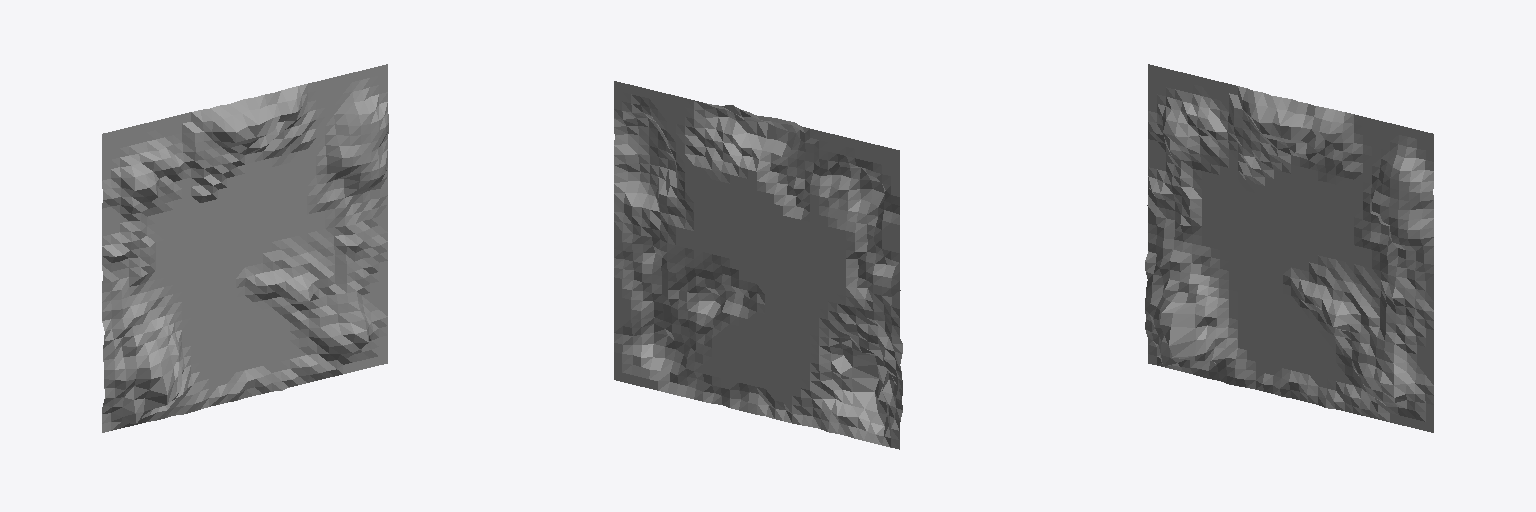
Rendered from terrain.OBJ.
3 views of the same model, side by side, from view 1: azimuth 30°, elevation 25°; view 2: azimuth 150°, elevation 25°; view 3: azimuth 330°, elevation 25° (orthographic).
Visible parts, largest first — view 1: terrain_Plane; view 2: terrain_Plane; view 3: terrain_Plane.
Part boxes in pixels (bbox=[...]): terrain_Plane: bbox=[102, 64, 388, 432]; terrain_Plane: bbox=[614, 81, 902, 449]; terrain_Plane: bbox=[1145, 64, 1433, 432].
Size of the model in its own units: 67.08 by 67.37 by 9.13.